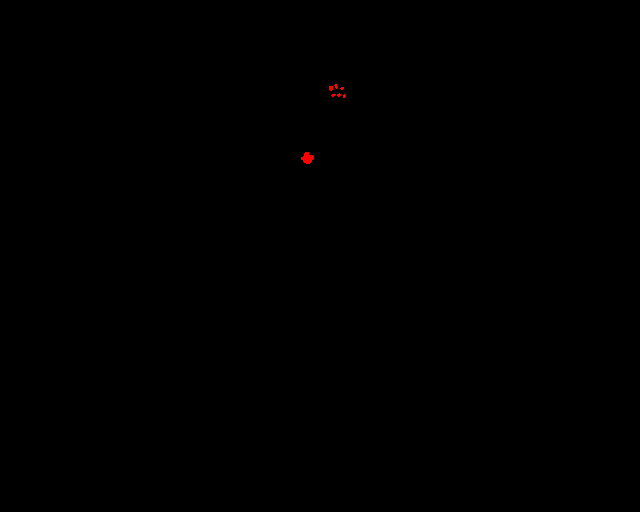Target: (301, 152, 314, 164), (334, 84, 338, 89), (329, 86, 333, 91), (337, 93, 341, 97), (331, 94, 336, 97), (340, 87, 344, 90), (343, 94, 346, 98)
